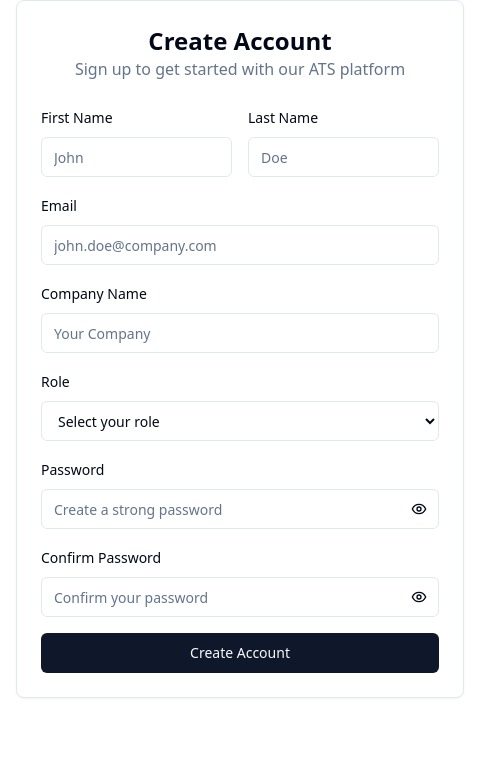
Scenario: RegisterForm Validation › should show real-time validation for email field
# Type invalid email
Type "invalid-email" into the field labelled "Email" at (240, 245), box [41,225,439,265]
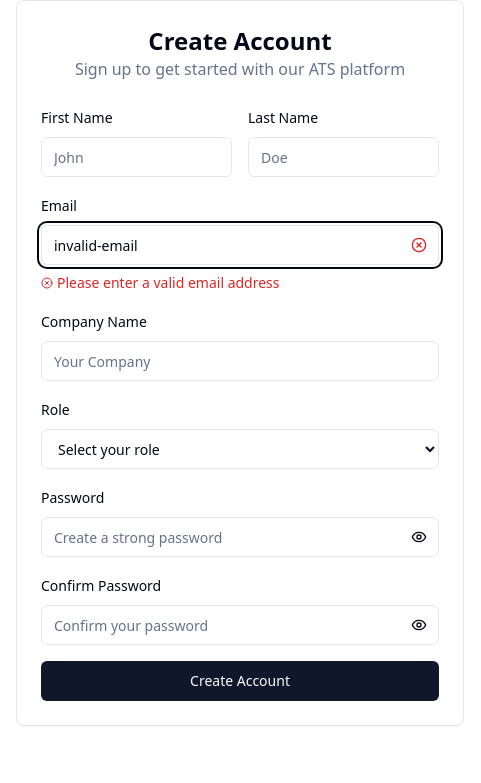
Press Tab
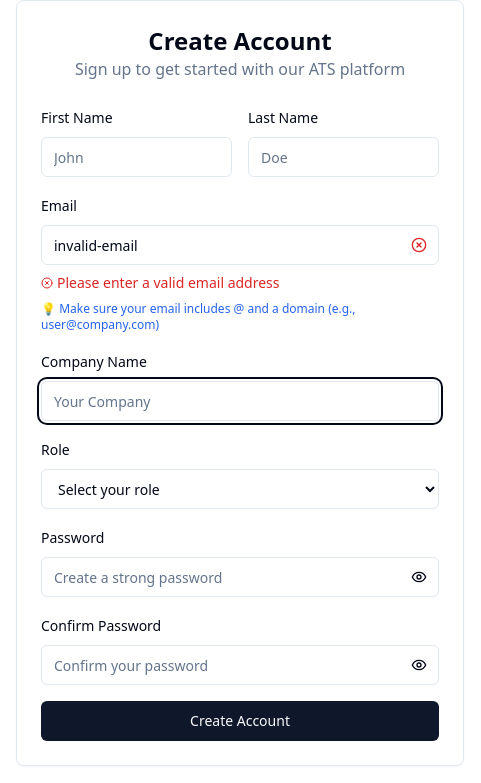
expect the text "Please enter a valid email address" is shown: met, box [41,273,280,292]
# Clear and type valid email
Replace the text in the field labelled "Email" with "user@example.com" at (240, 245), box [41,225,439,265]
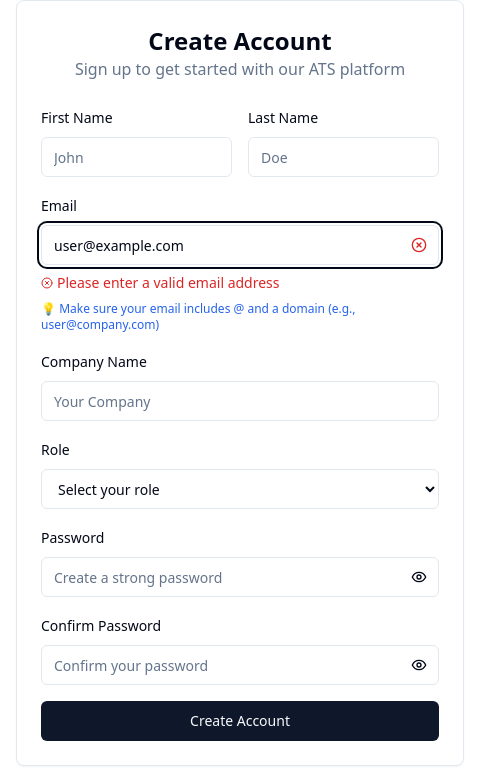
Press Tab
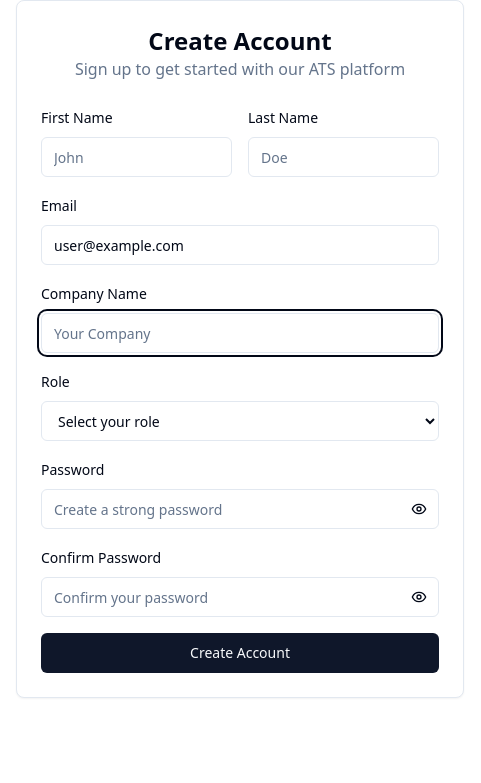
expect the text "Please enter a valid email address" is gone: met
